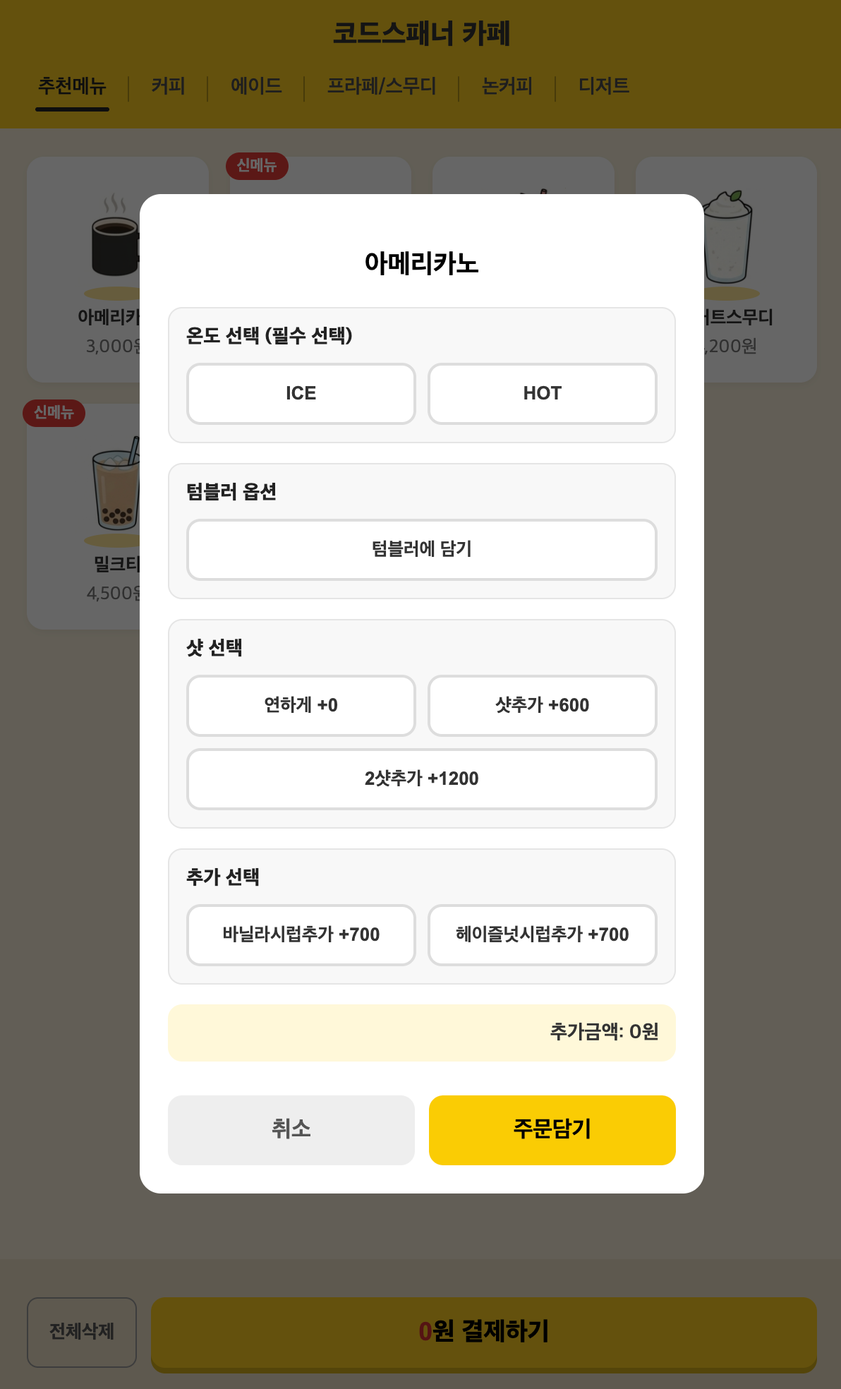action_button: (185, 748, 657, 811), (185, 521, 656, 583), (429, 1096, 677, 1166), (167, 1095, 415, 1165), (185, 362, 416, 425), (426, 904, 657, 967), (427, 675, 657, 738), (186, 905, 416, 968), (186, 675, 417, 737), (427, 364, 658, 426)
popup_modal: (139, 194, 704, 1194)
